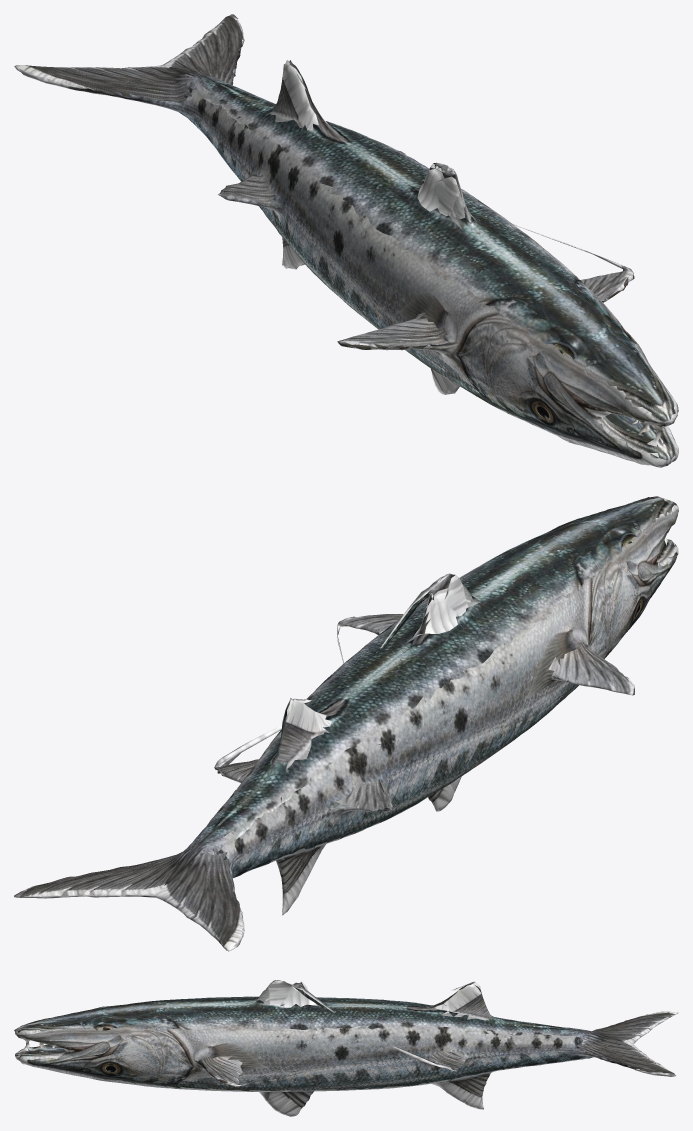
File: fish_barracuda.glb
The picture shows the model from 3 angles, top to bottom: view 1: azimuth 30°, elevation 25°; view 2: azimuth 150°, elevation 25°; view 3: azimuth 270°, elevation 25°; orthographic projection. The views are drawn at different scales.
Parts seen in each view (by area): view 1: orient; view 2: orient; view 3: orient.
Part boxes in pixels (x1,y1,x2,y2): orient: (14, 14, 678, 467); orient: (14, 496, 678, 951); orient: (14, 980, 678, 1116).
Bounding box in the file's own units: 0.6019 × 0.4469 × 1.95.
1 material, 1 textured.
